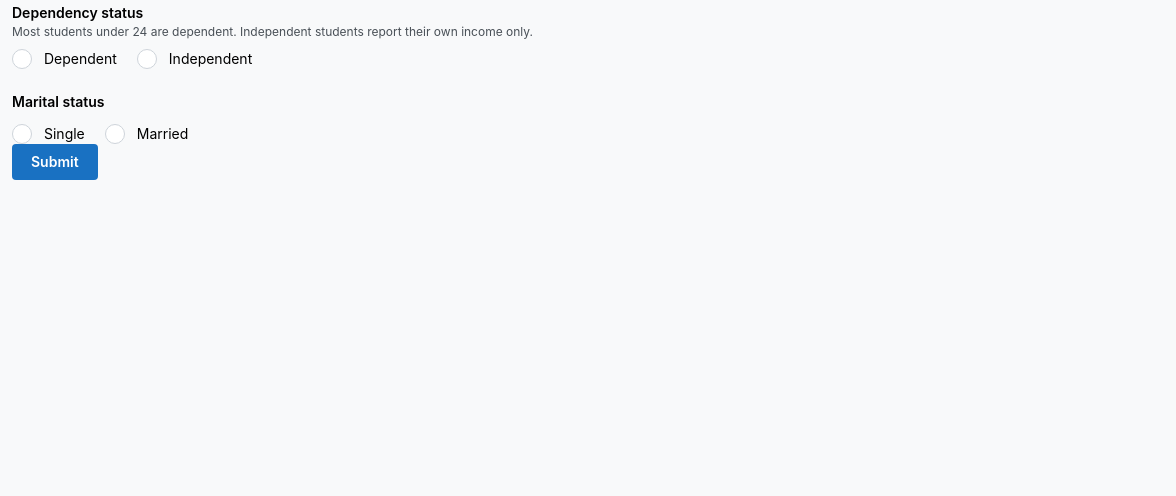
Test: StatusStep › removes the spouse fields again if the user corrects their answer
The image size is (1176, 496).
Click the radio button labelled "Married": (115, 134) [105, 124, 125, 144]
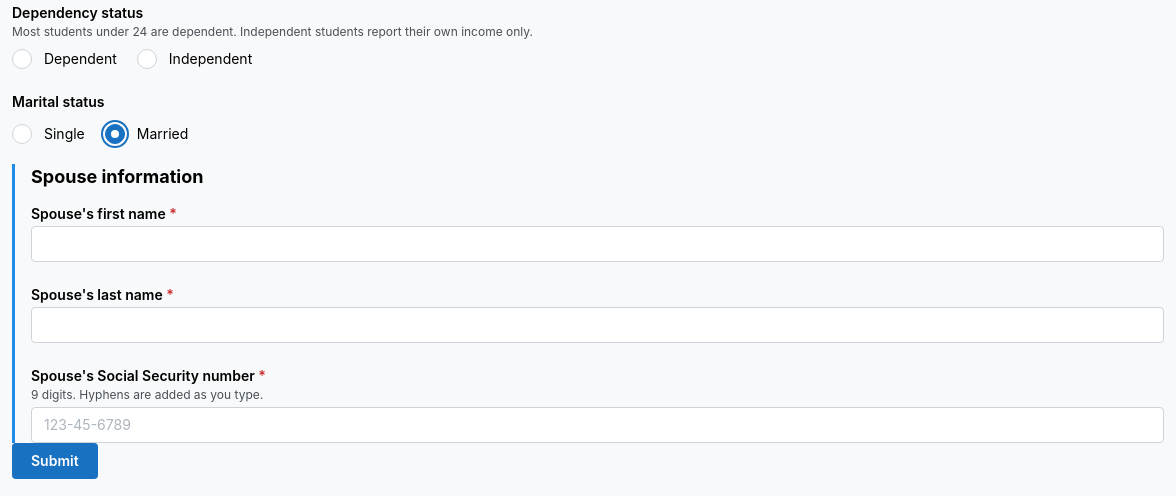
expect the heading "Spouse information" is shown: met, box [31, 166, 203, 187]
Click the radio button labelled "Single": (22, 134) [12, 124, 32, 144]
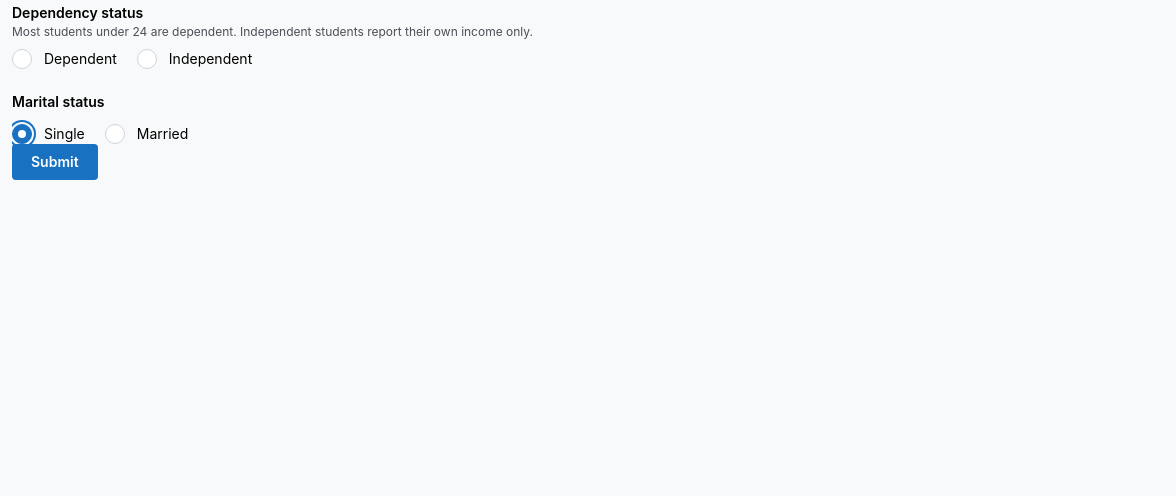
expect the label "Spouse's first name" is gone: met
